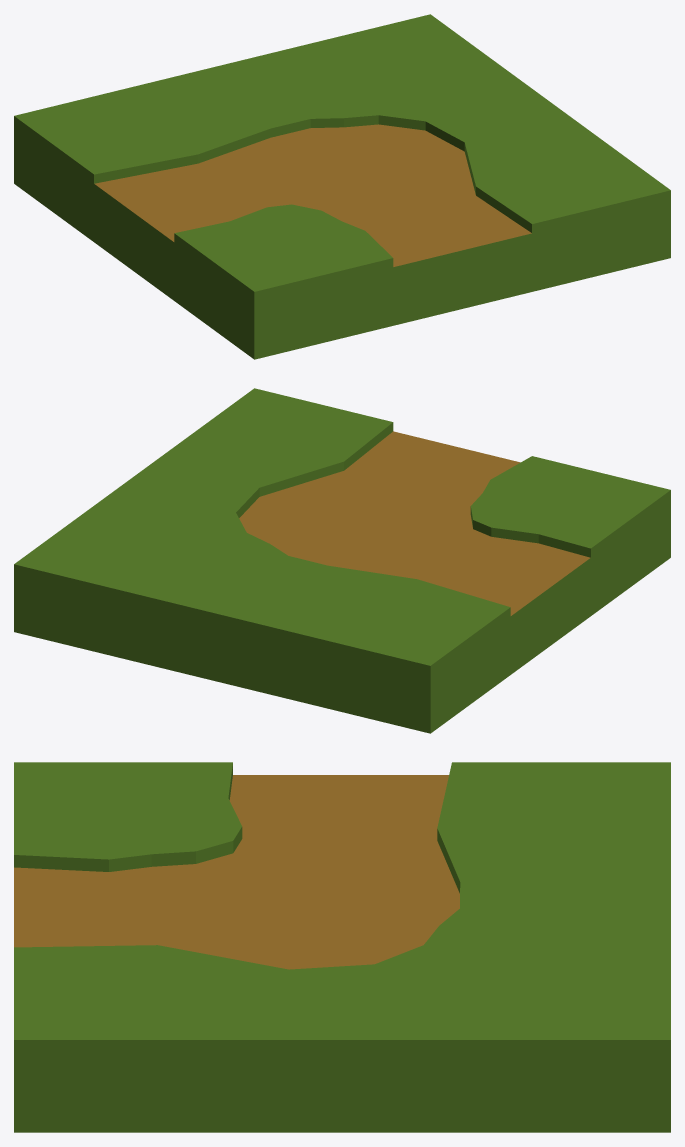
File: Turn.fbx
3 views of the same model, one above another, from view 1: azimuth 30°, elevation 25°; view 2: azimuth 150°, elevation 25°; view 3: azimuth 270°, elevation 25° (orthographic). The views are drawn at different scales.
Parts seen in each view (by area): view 1: Turn; view 2: Turn; view 3: Turn.
Boxes of the visible parts, left/top/right/bottom form: Turn: left=14, top=14, right=670, bottom=359; Turn: left=14, top=388, right=670, bottom=733; Turn: left=14, top=762, right=670, bottom=1132.
Size of the model in its own units: 450 by 70 by 450.
